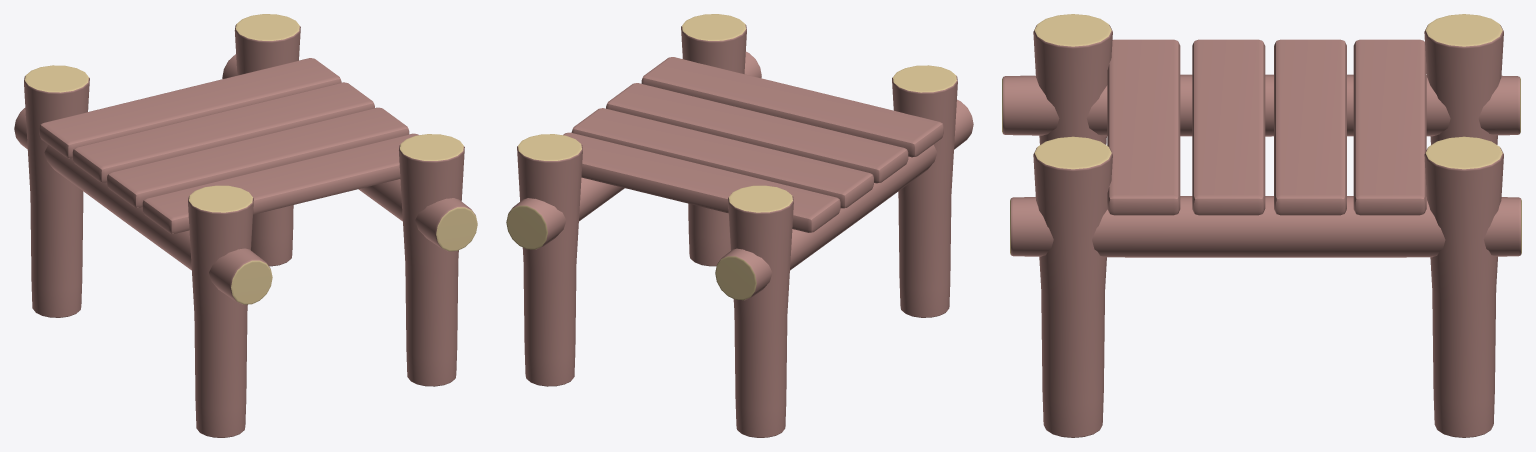
Rendered from bridge.fbx.
3 renders of one model, left to right at view 1: azimuth 30°, elevation 25°; view 2: azimuth 150°, elevation 25°; view 3: azimuth 270°, elevation 25°, orthographic. The views are drawn at different scales.
Visible parts, largest first — view 1: pCube53, pCube52, pCube54, pCube58, pCube57, pCube56, pCube59, pCube50, pCube55, pCube51; view 2: pCube54, pCube55, pCube53, pCube59, pCube58, pCube57, pCube56, pCube50, pCube52, pCube51; view 3: pCube51, pCube55, pCube52, pCube58, pCube56, pCube57, pCube59, pCube50, pCube54, pCube53.
Part boxes in pixels (bbox=[...]): pCube53: bbox=[188, 185, 253, 437]; pCube52: bbox=[399, 134, 464, 386]; pCube54: bbox=[24, 65, 89, 317]; pCube58: bbox=[107, 107, 409, 207]; pCube57: bbox=[72, 82, 374, 182]; pCube56: bbox=[39, 58, 341, 158]; pCube59: bbox=[142, 133, 418, 233]; pCube50: bbox=[14, 108, 272, 304]; pCube55: bbox=[234, 14, 300, 266]; pCube51: bbox=[222, 54, 477, 251]; pCube54: bbox=[728, 185, 793, 437]; pCube55: bbox=[517, 134, 582, 386]; pCube53: bbox=[892, 65, 957, 317]; pCube59: bbox=[641, 57, 943, 157]; pCube58: bbox=[606, 83, 908, 183]; pCube57: bbox=[571, 108, 873, 208]; pCube56: bbox=[563, 132, 840, 232]; pCube50: bbox=[715, 99, 973, 300]; pCube52: bbox=[681, 14, 746, 266]; pCube51: bbox=[506, 51, 761, 249]; pCube51: bbox=[1010, 196, 1521, 257]; pCube55: bbox=[1424, 136, 1503, 437]; pCube52: bbox=[1033, 136, 1112, 437]; pCube58: bbox=[1192, 39, 1265, 215]; pCube56: bbox=[1353, 39, 1426, 215]; pCube57: bbox=[1274, 39, 1346, 215]; pCube59: bbox=[1107, 39, 1180, 215]; pCube50: bbox=[1002, 74, 1520, 136]; pCube54: bbox=[1424, 14, 1503, 144]; pCube53: bbox=[1033, 14, 1112, 144].
Size of the model in its own units: 202 by 161 by 277.
